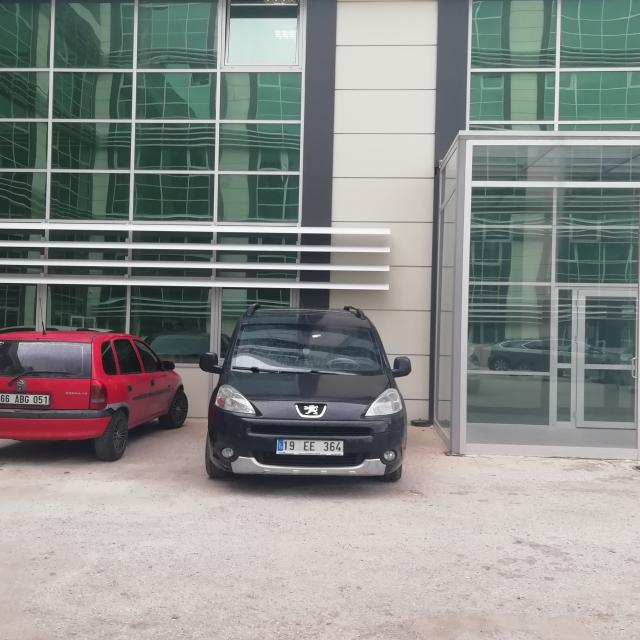license_plate: (276, 439, 342, 453), (0, 394, 51, 404)
